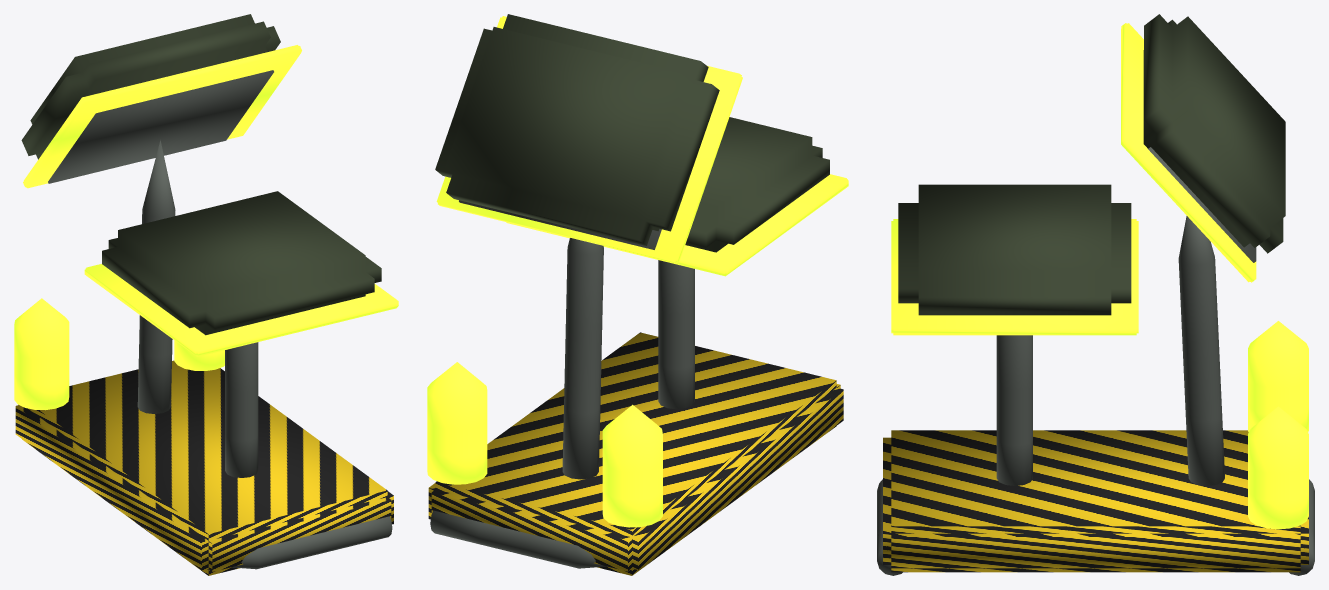
Rendered from ToxicBench.fbx.
3 renders of one model, left to right at view 1: azimuth 30°, elevation 25°; view 2: azimuth 150°, elevation 25°; view 3: azimuth 270°, elevation 25°, orthographic. The views are drawn at different scales.
Visible parts, largest first — view 1: ToxicBench, ToxicBench_Glow; view 2: ToxicBench, ToxicBench_Glow; view 3: ToxicBench, ToxicBench_Glow.
Part boxes in pixels (x1,y1,x2,y2): ToxicBench: [15, 14, 393, 575]; ToxicBench_Glow: [14, 45, 398, 410]; ToxicBench: [428, 14, 843, 575]; ToxicBench_Glow: [427, 16, 848, 527]; ToxicBench: [877, 14, 1314, 575]; ToxicBench_Glow: [891, 23, 1308, 529].
Bounding box in the file's own units: 137 × 255 × 216.
Materials: 2 (1 with a texture image).
